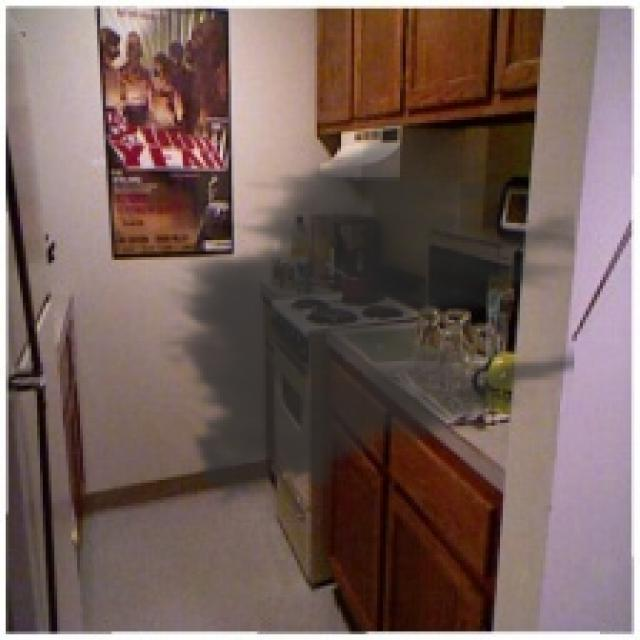Smoke: (157, 105, 574, 518)
